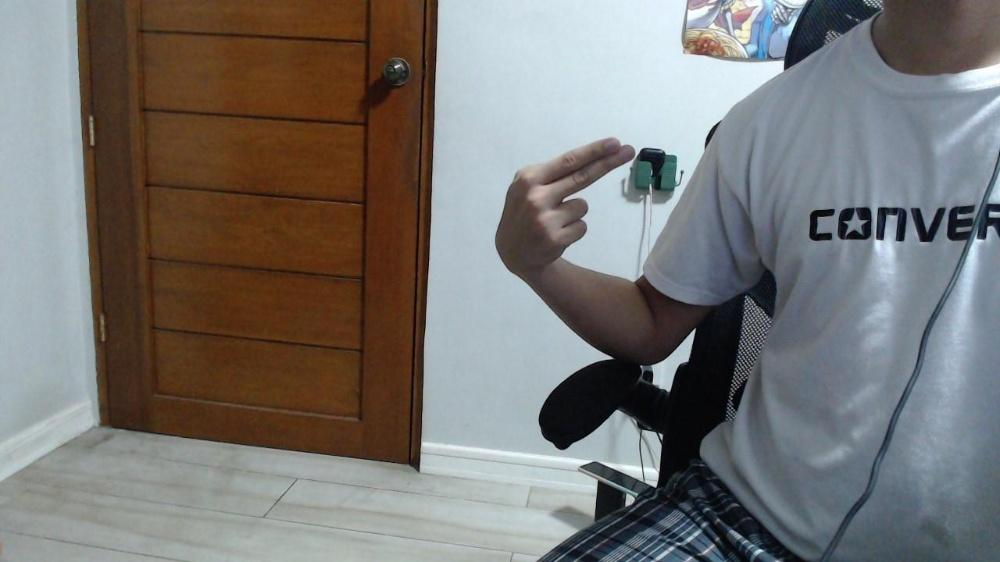h: (502, 135, 634, 267)
